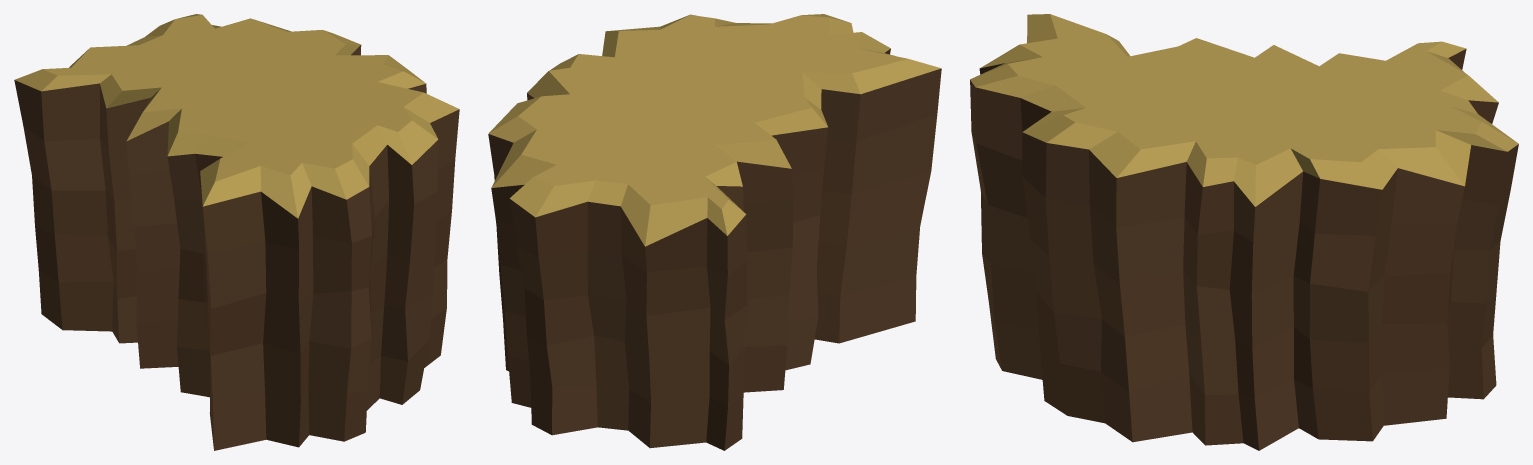
File: cliff2.fbx
The picture shows the model from 3 angles, left to right: view 1: azimuth 30°, elevation 25°; view 2: azimuth 150°, elevation 25°; view 3: azimuth 270°, elevation 25°; orthographic projection. The views are drawn at different scales.
Visible parts, largest first — view 1: Plane.001; view 2: Plane.001; view 3: Plane.001.
Boxes of the visible parts, <box> form: Plane.001: <box>14,14,459,450</box>; Plane.001: <box>488,14,941,450</box>; Plane.001: <box>970,14,1518,450</box>.
Bounding box in the file's own units: 1307 × 1083 × 1826.
